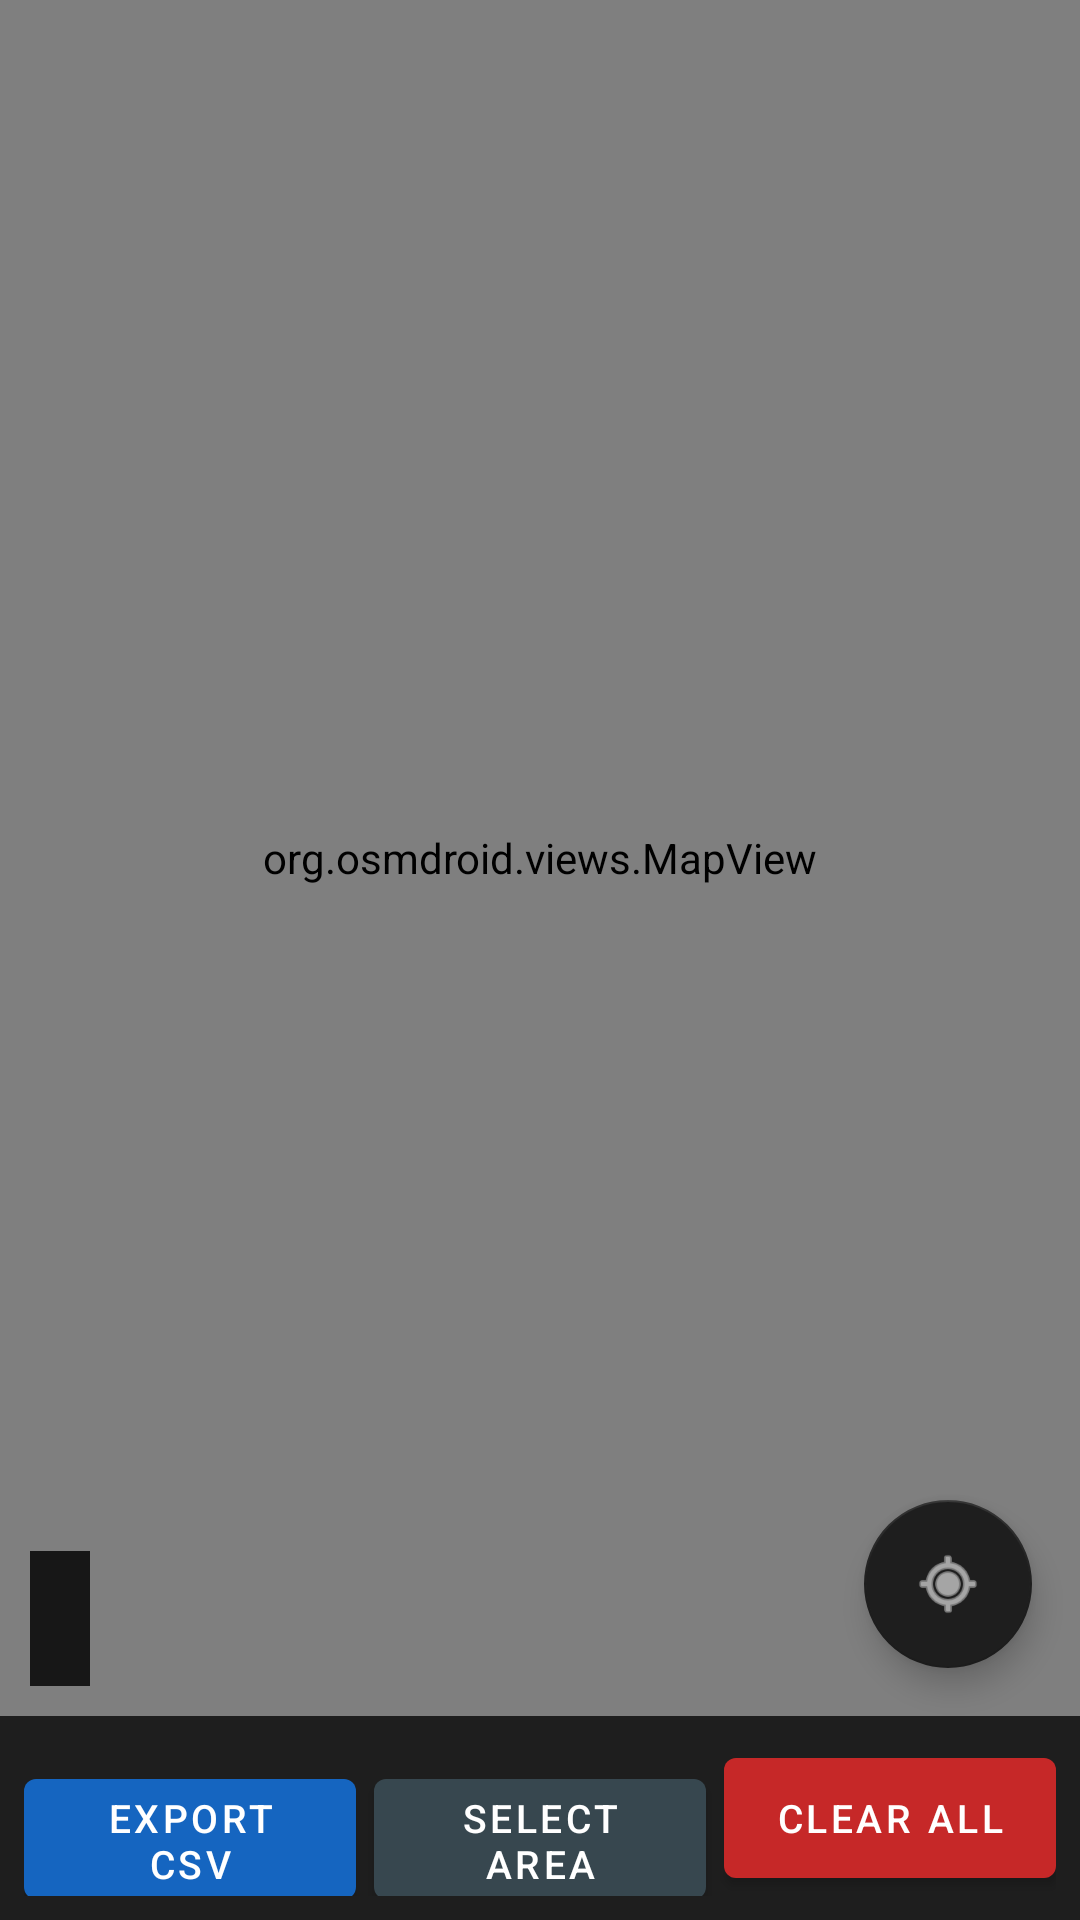

Icons on this 1080px×1920px Android screen, each with the point to tap as point (x, y):
My Location: point (948, 1584)
